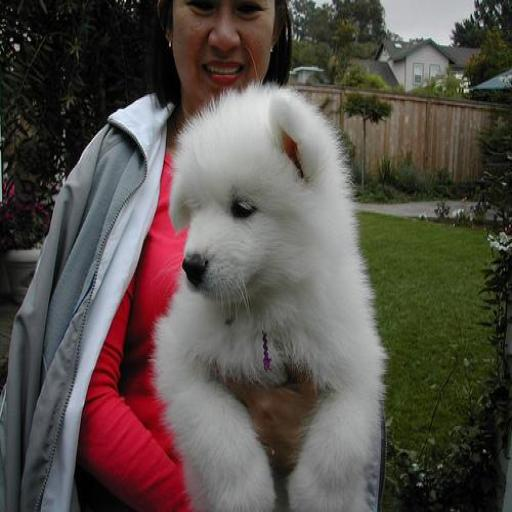dog_face: (173, 89, 320, 311)
